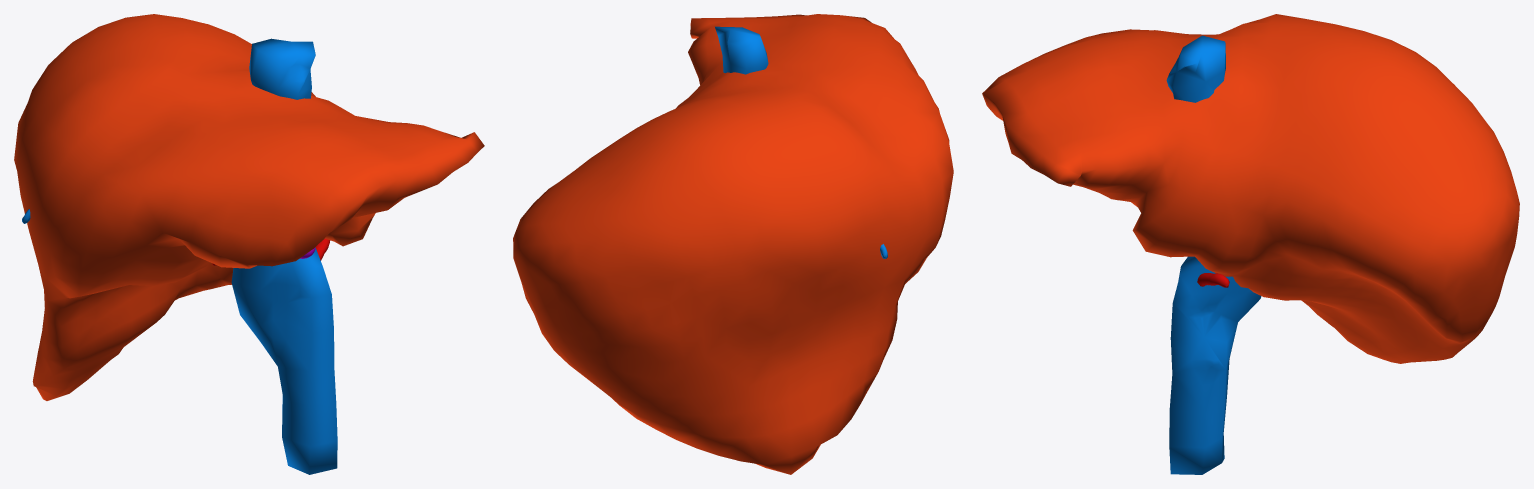
File: cut_liver_model_1_.fbx
The picture shows the model from 3 angles, left to right: view 1: azimuth 30°, elevation 25°; view 2: azimuth 150°, elevation 25°; view 3: azimuth 270°, elevation 25°; orthographic projection. The views are drawn at different scales.
Parts seen in each view (by area): view 1: Parenchyma_complex_1, Venous_complex_1; view 2: Parenchyma_complex_1, Venous_complex_1; view 3: Parenchyma_complex_1, Venous_complex_1.
Boxes of the visible parts, x1=… form: Parenchyma_complex_1: x1=14, y1=14, x2=484, y2=400; Venous_complex_1: x1=22, y1=38, x2=337, y2=474; Parenchyma_complex_1: x1=513, y1=14, x2=953, y2=474; Venous_complex_1: x1=715, y1=26, x2=887, y2=258; Parenchyma_complex_1: x1=982, y1=14, x2=1519, y2=363; Venous_complex_1: x1=1166, y1=35, x2=1261, y2=474.
Size of the model in its own units: 80.13 by 92.84 by 110.
